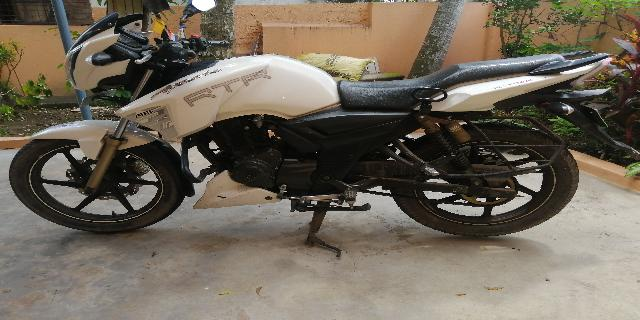Motorbike: (7, 8, 614, 247)
